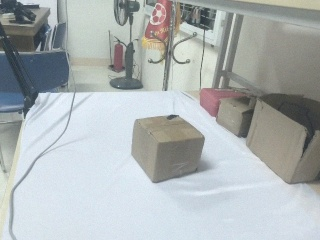box: (246, 93, 320, 185), (131, 113, 206, 182), (216, 95, 256, 138), (200, 84, 240, 119)
